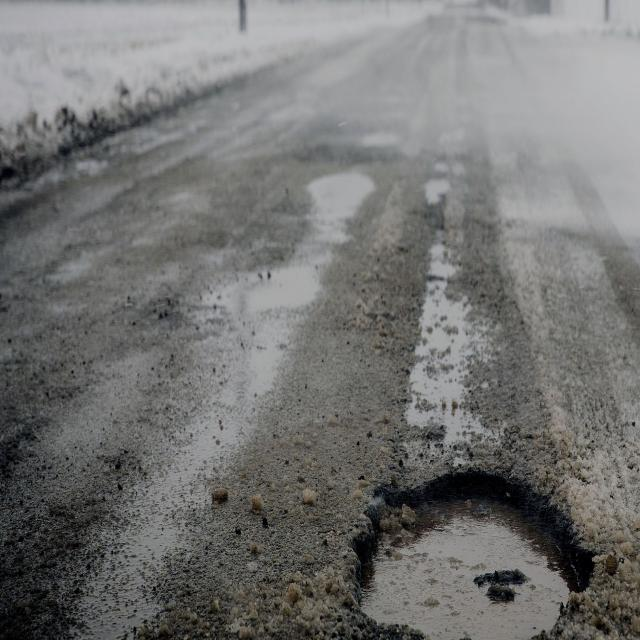road-pothole: (341, 462, 600, 640)
